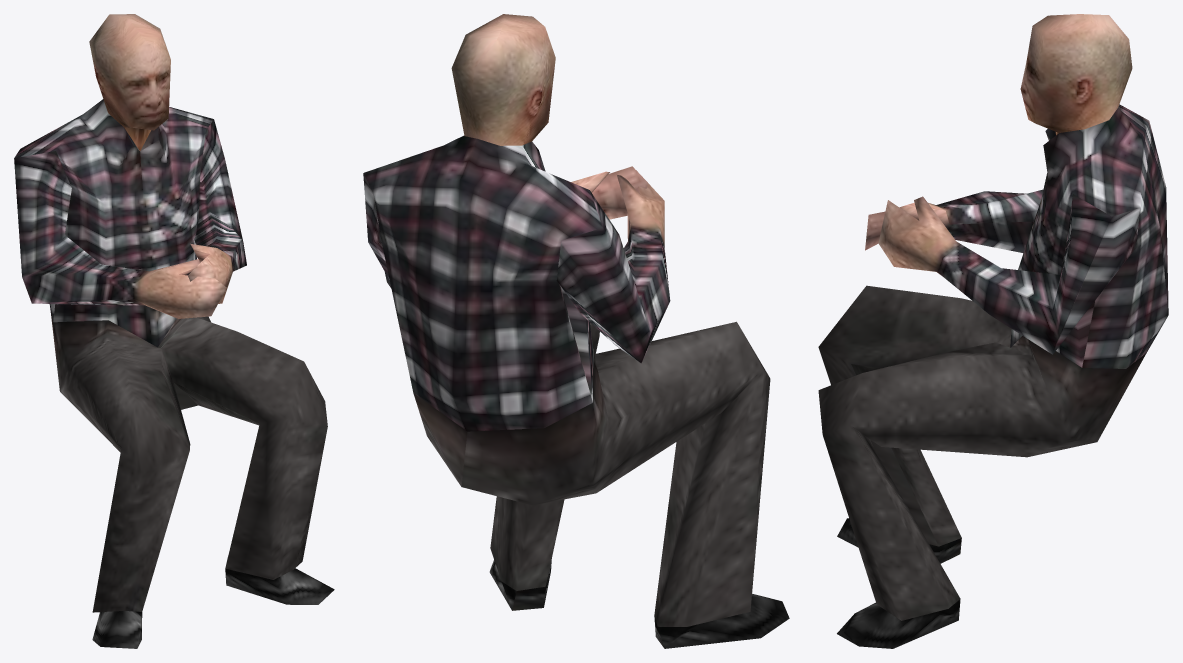
The model's file is Ganpa01_2.glb.
3 renders of one model, left to right at view 1: azimuth 30°, elevation 25°; view 2: azimuth 150°, elevation 25°; view 3: azimuth 270°, elevation 25°, orthographic. The views are drawn at different scales.
Parts seen in each view (by area): view 1: casual28_m_lowpoly_网格_casual28_m_lowpoly_网格mesh; view 2: casual28_m_lowpoly_网格_casual28_m_lowpoly_网格mesh; view 3: casual28_m_lowpoly_网格_casual28_m_lowpoly_网格mesh.
Boxes of the visible parts, x1,y1,x2,y2 form: casual28_m_lowpoly_网格_casual28_m_lowpoly_网格mesh: (14, 14, 334, 648); casual28_m_lowpoly_网格_casual28_m_lowpoly_网格mesh: (363, 14, 789, 648); casual28_m_lowpoly_网格_casual28_m_lowpoly_网格mesh: (818, 14, 1168, 648).
Bounding box in the file's own units: 0.6091 × 1.31 × 0.7157.
Materials: 1 (1 with a texture image).
